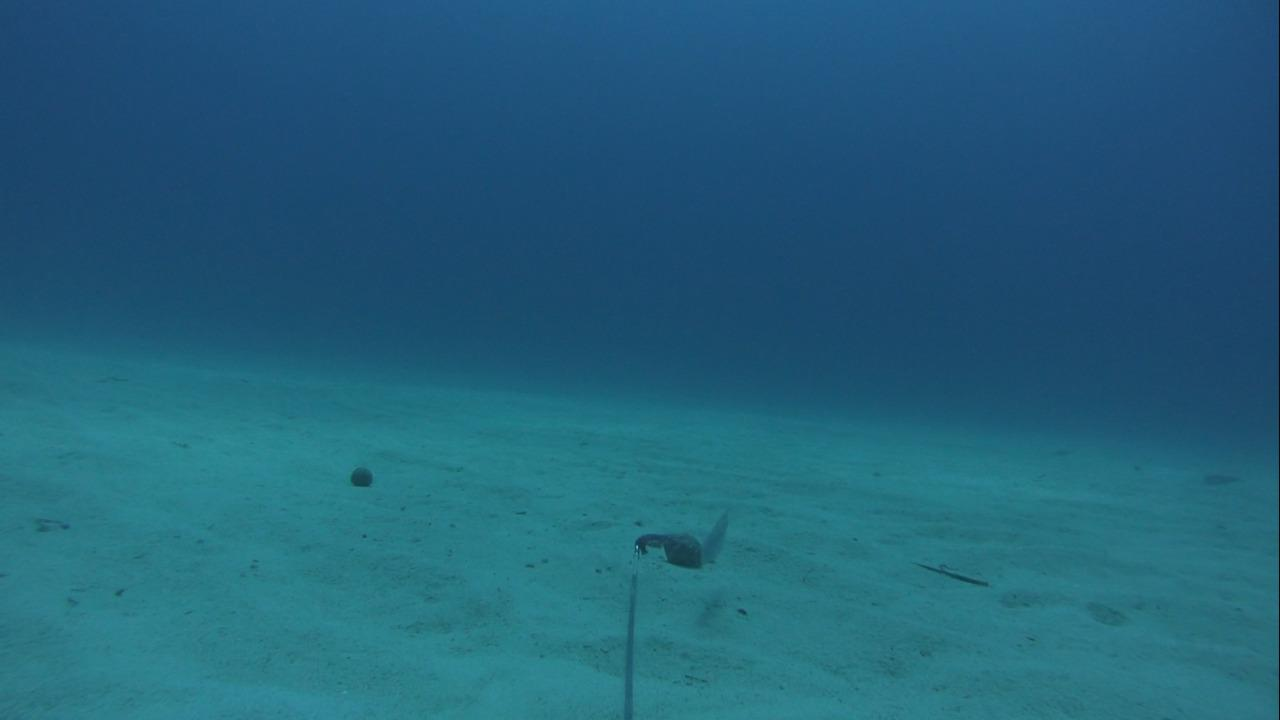raor: (698, 502, 737, 572)
